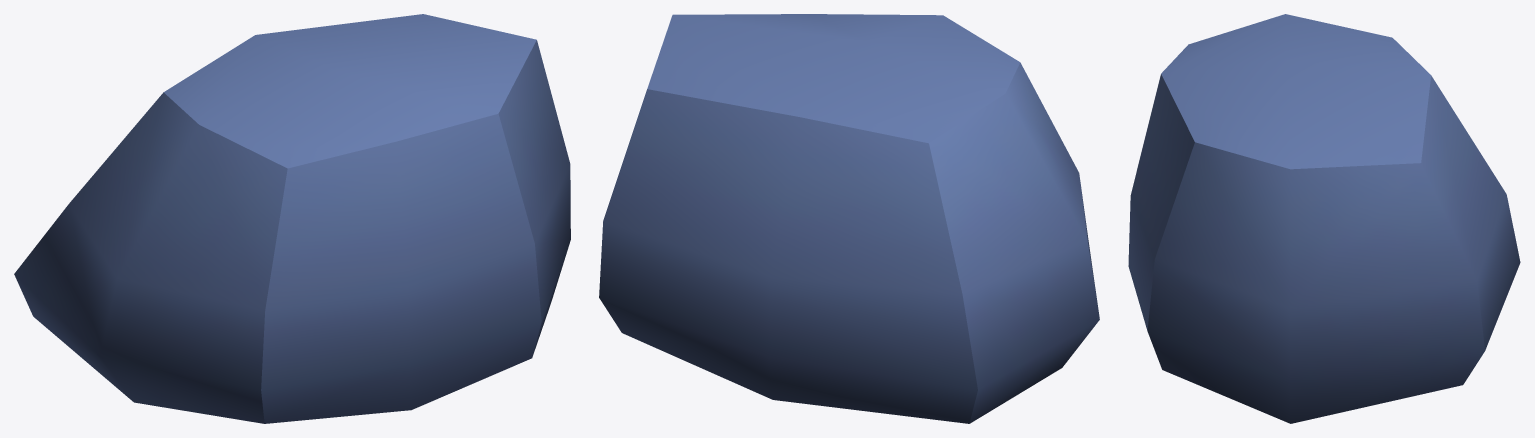
The model's file is Gold.FBX.
3 renders of one model, left to right at view 1: azimuth 30°, elevation 25°; view 2: azimuth 150°, elevation 25°; view 3: azimuth 270°, elevation 25°, orthographic. The views are drawn at different scales.
Parts seen in each view (by area): view 1: Box001; view 2: Box001; view 3: Box001.
Part boxes in pixels (x1=…): Box001: x1=14, y1=14, x2=570, y2=423; Box001: x1=599, y1=14, x2=1099, y2=423; Box001: x1=1128, y1=14, x2=1520, y2=423.
Size of the model in its own units: 48.96 by 30 by 37.62.
